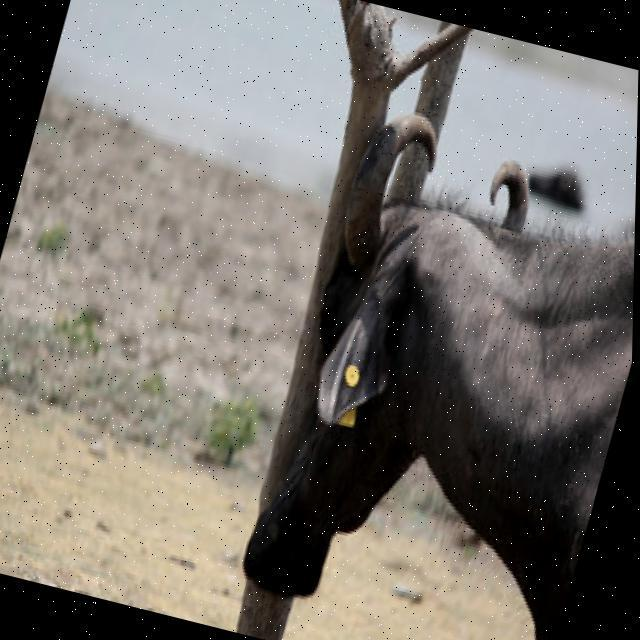Buffalo: (221, 99, 638, 640)
